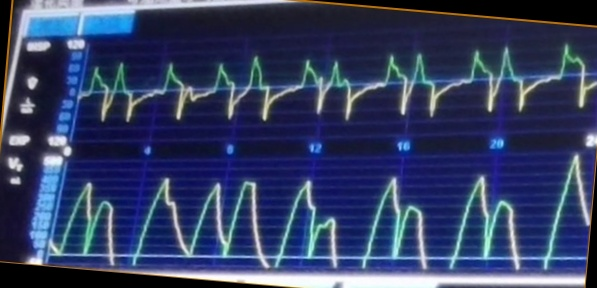Double_Triggering Flow: (87, 37, 597, 126)
Double_Triggering Volume: (56, 156, 587, 269)
